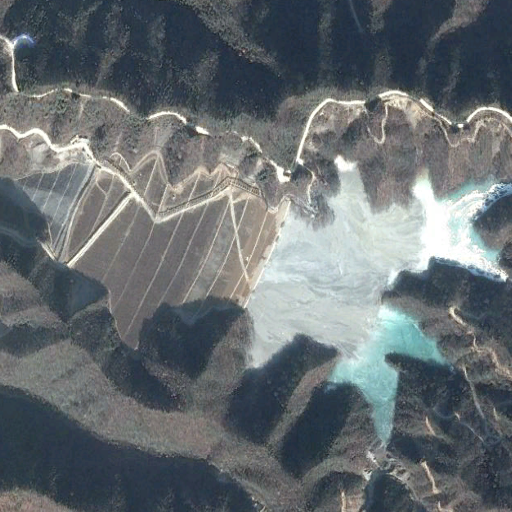tp: (12, 152, 512, 452)
